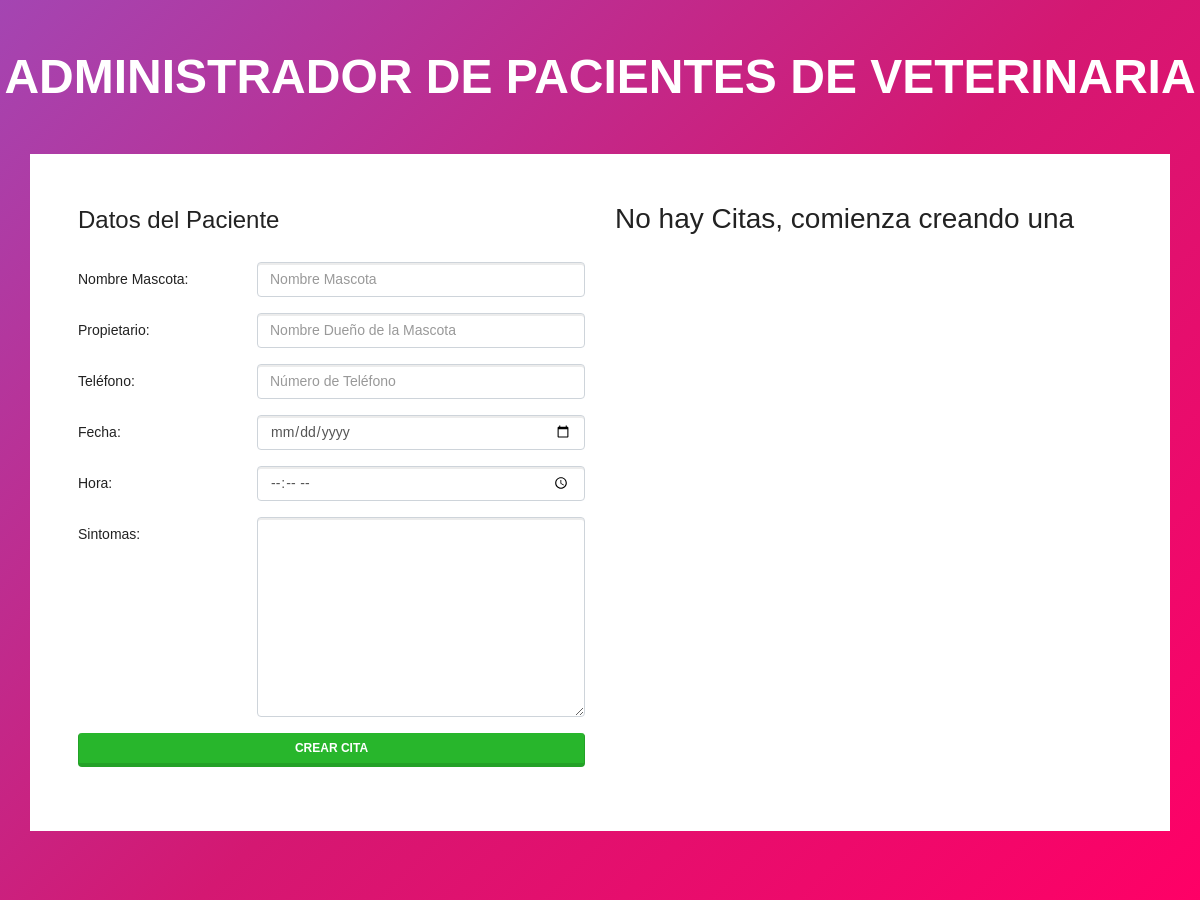
Test case: Completar datos de formulario › carga la pagina principal
In the field with test id "mascota-input": [421, 280] box [257,262,585,297], type "Emmanuel"
In the field with test id "propietario-input": [421, 331] box [257,313,585,348], type "Karen"
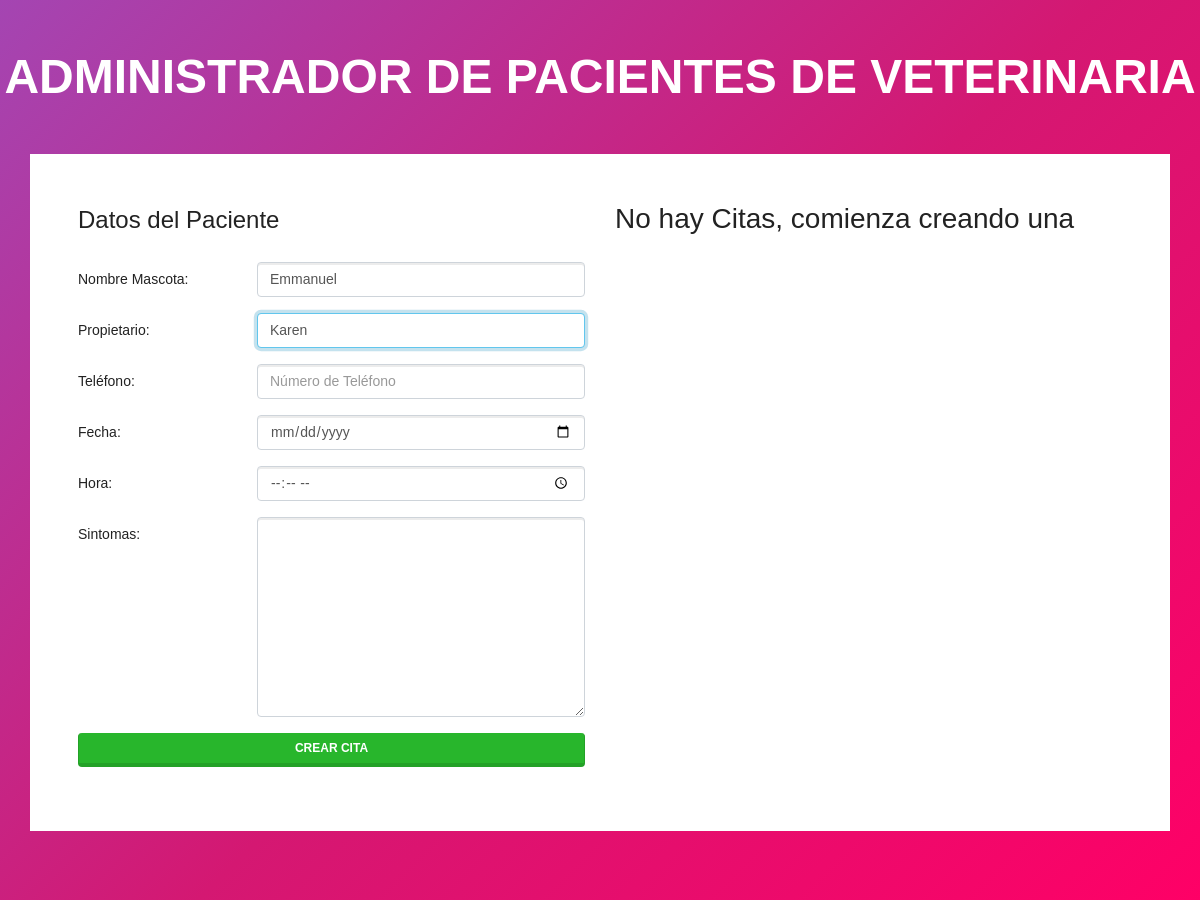
In the field with test id "telefono-input": [421, 382] box [257,364,585,399], type "0123898123"
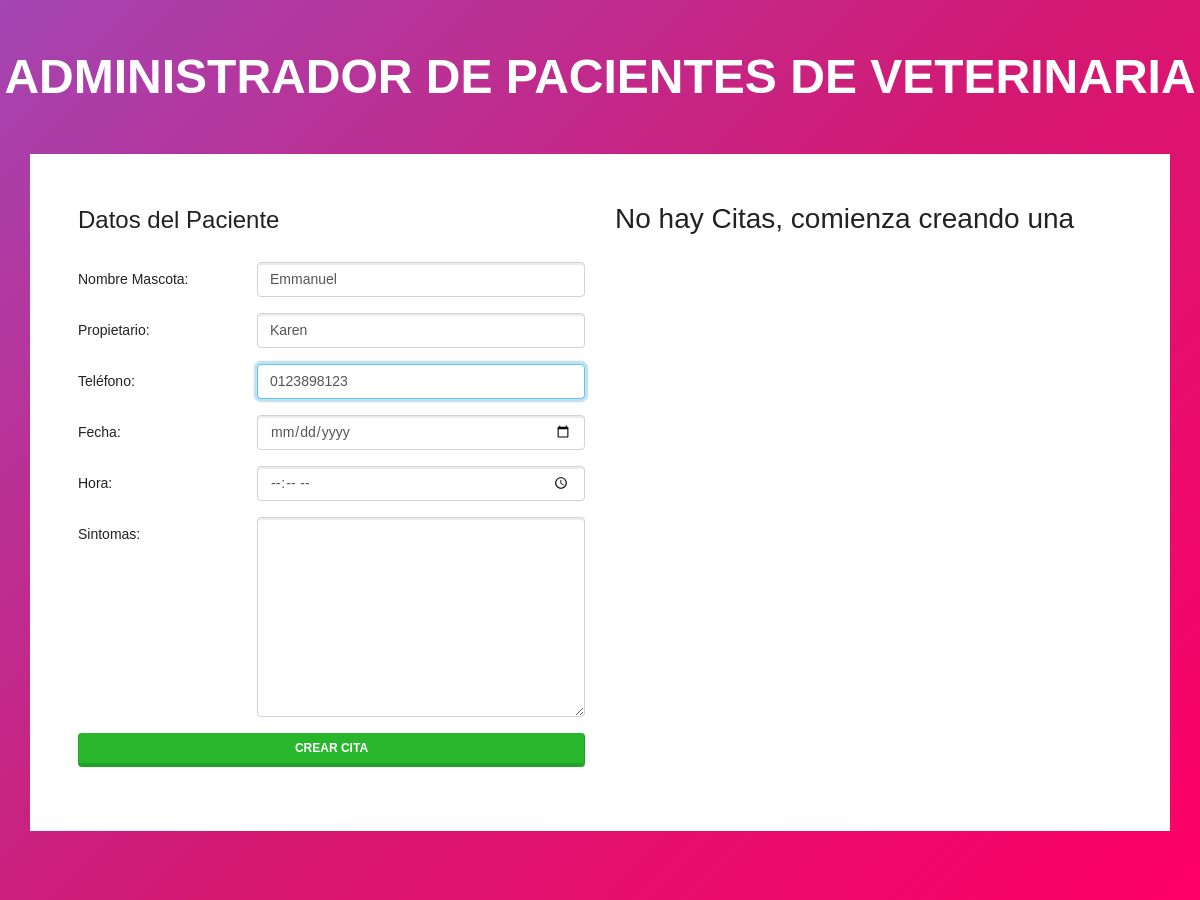
In the date field with test id "date-input": [421, 433] box [257,415,585,450], type "2022-03-10"
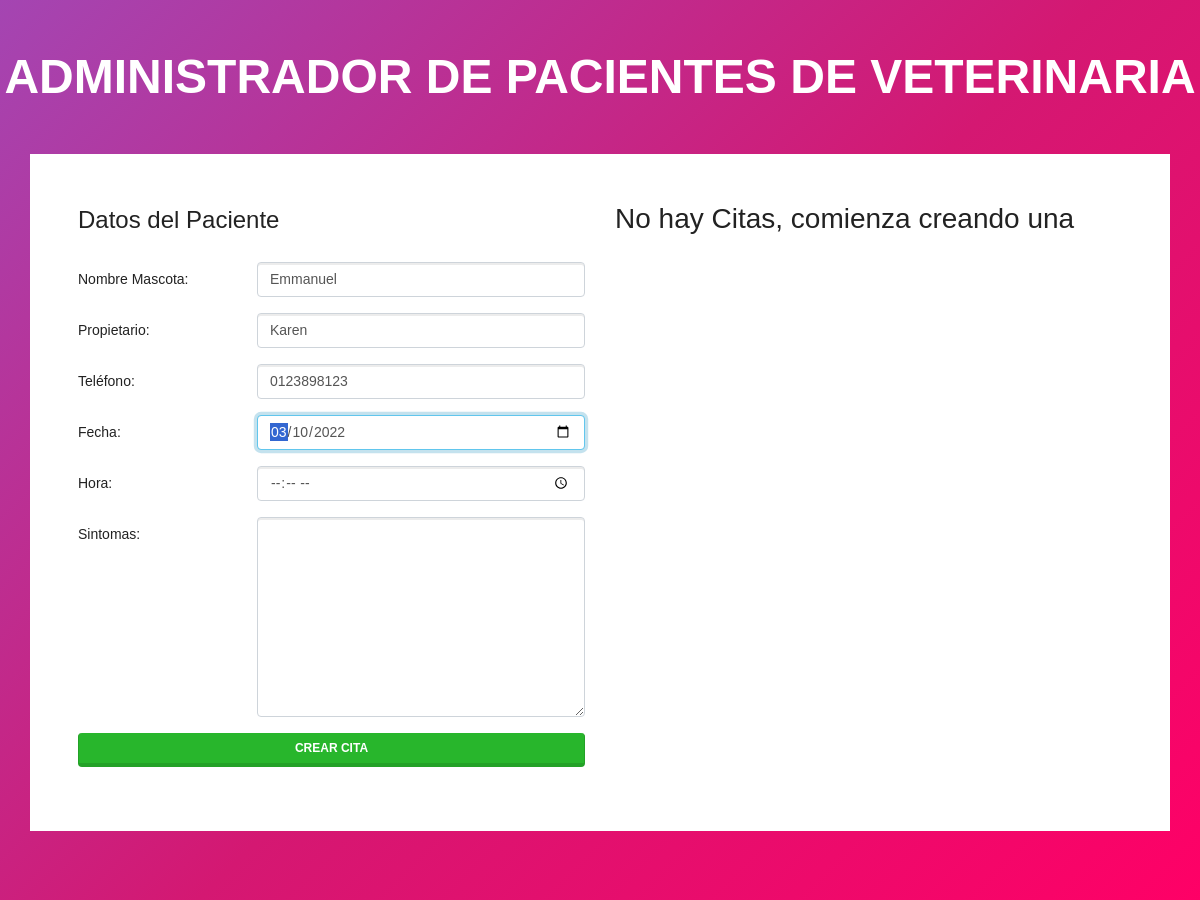
In the time field with test id "time-input": [421, 484] box [257,466,585,501], type "12:30"
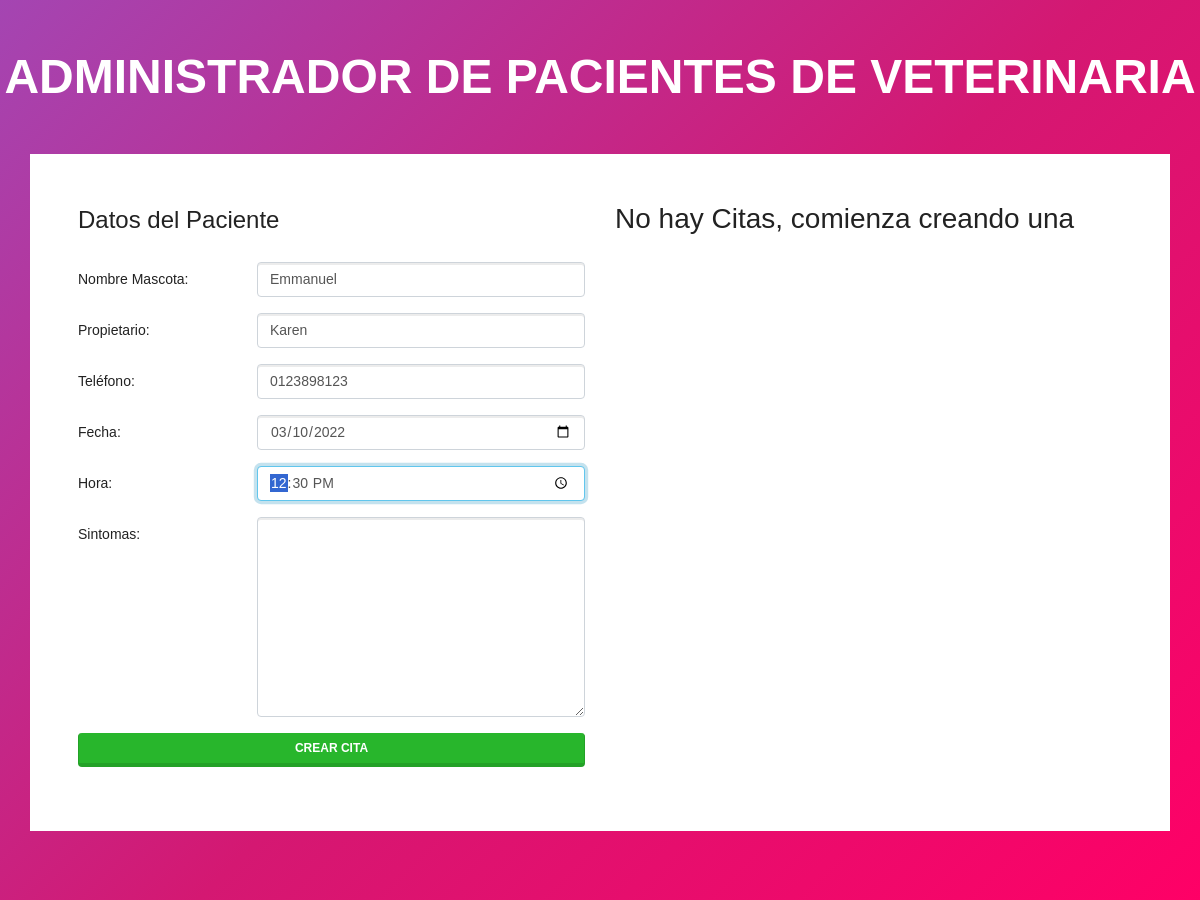
In the text box with test id "text-input": [421, 617] box [257,517,585,717], type "Solo caga"
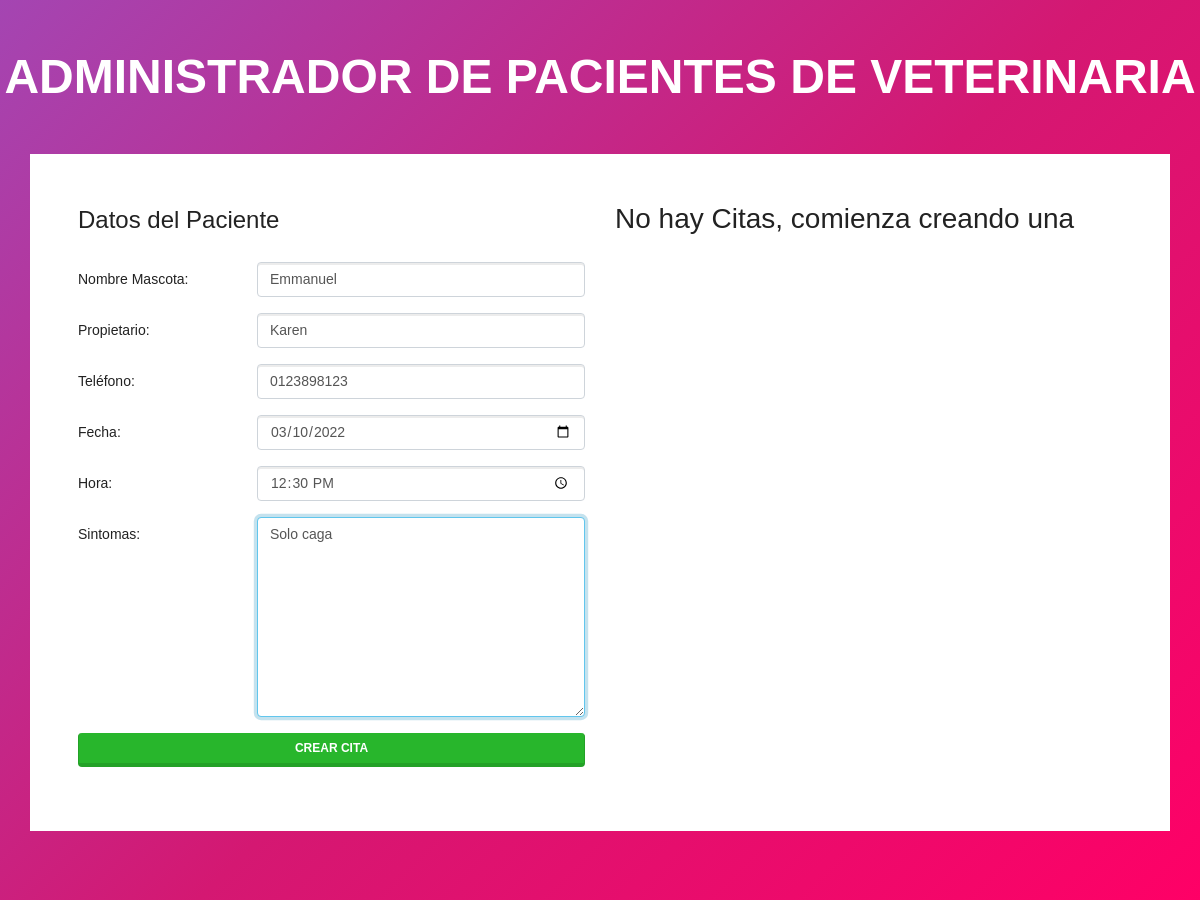
Click the button with test id "submit-form": [332, 750] box [78,733,585,767]
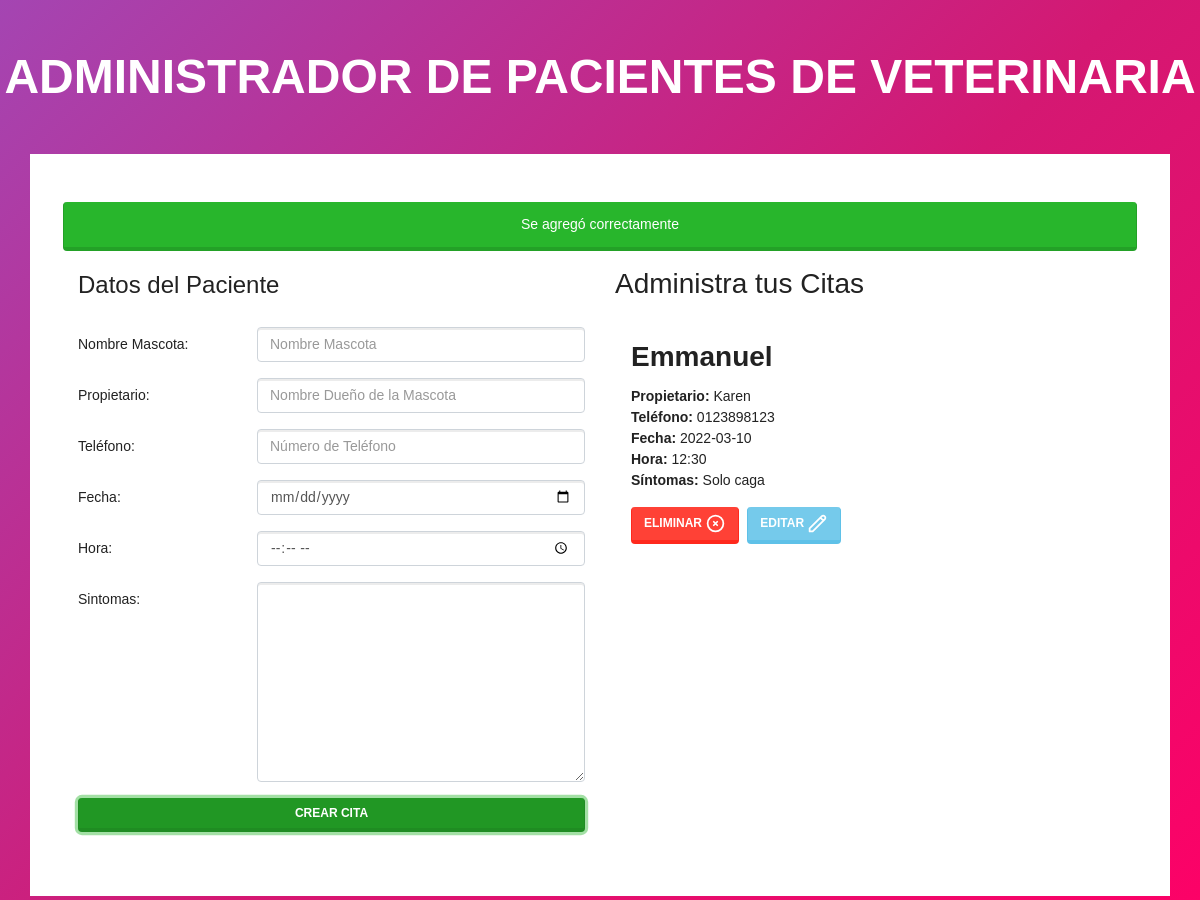
Check: the heading with test id "citas-heading" reads "Administra tus Citas", box [615,268,864,299]
